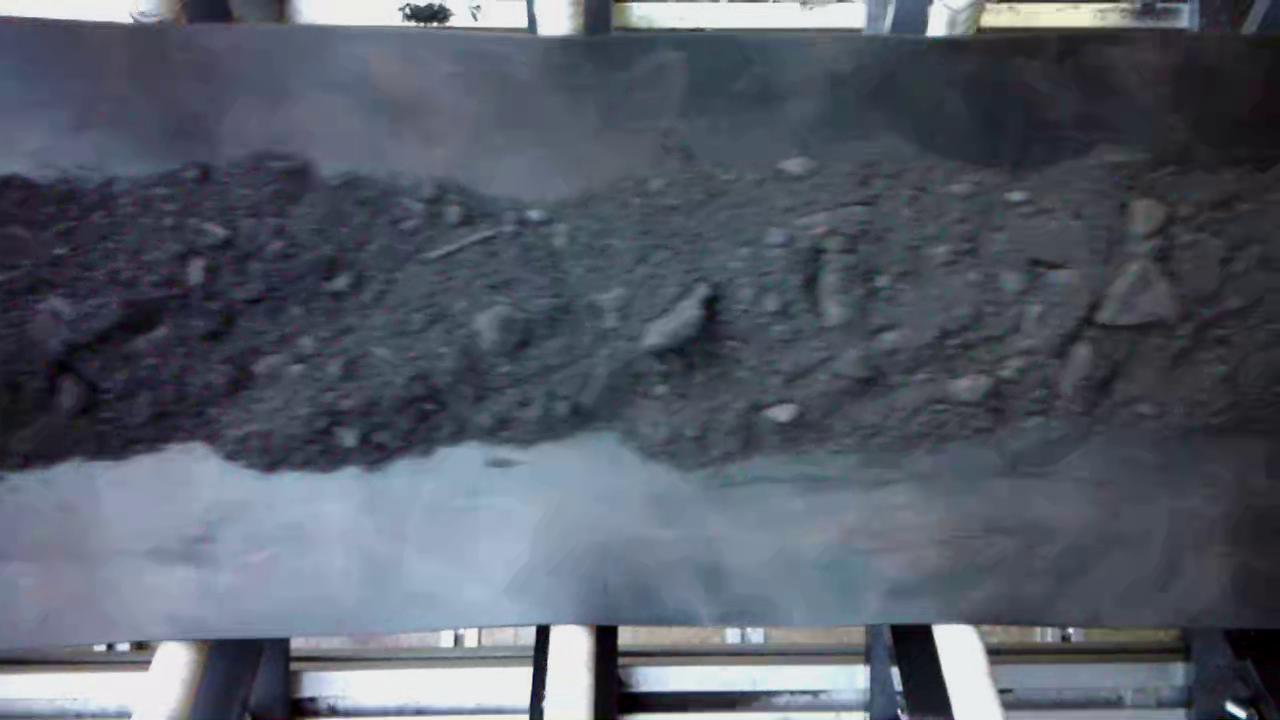conveyor: (1, 40, 1280, 619)
